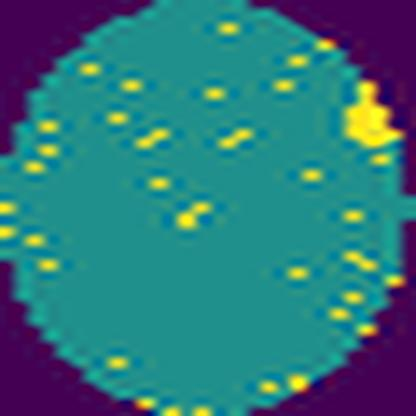Edge-Loc: (336, 67, 412, 158)
